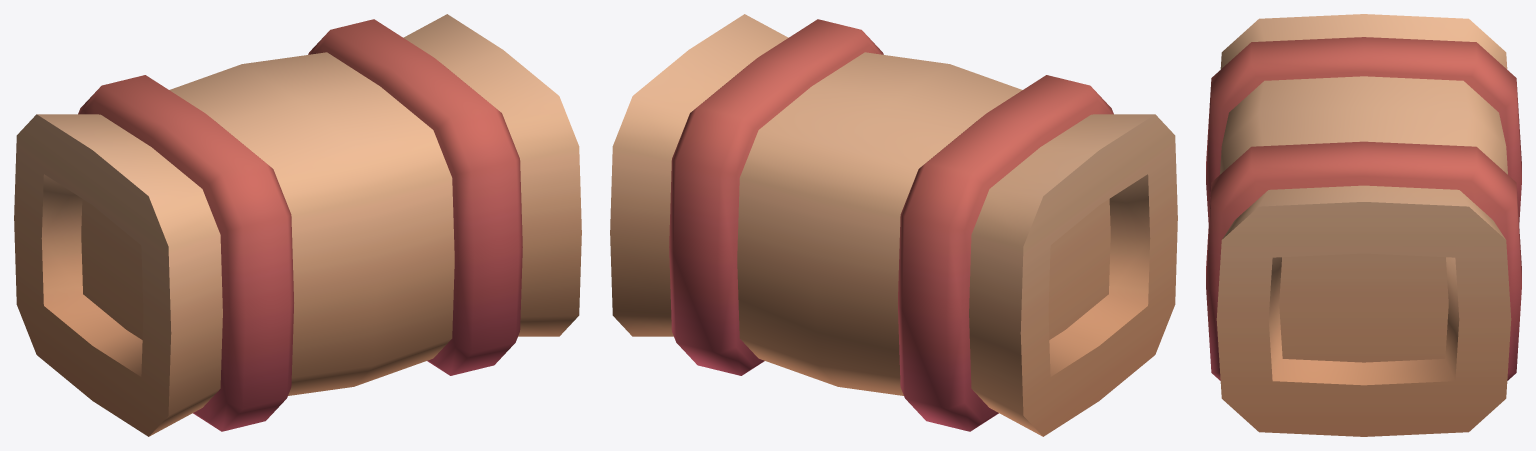
Rendered from k-graveyard-hay-bale-bundled.glb.
3 views of the same model, side by side, from view 1: azimuth 30°, elevation 25°; view 2: azimuth 150°, elevation 25°; view 3: azimuth 270°, elevation 25° (orthographic). The views are drawn at different scales.
Visible parts, largest first — view 1: hay-bale-bundled; view 2: hay-bale-bundled; view 3: hay-bale-bundled.
Boxes of the visible parts, bbox=[...] form: hay-bale-bundled: bbox=[14, 14, 581, 436]; hay-bale-bundled: bbox=[610, 14, 1177, 436]; hay-bale-bundled: bbox=[1206, 14, 1521, 436].
Size of the model in its own units: 0.6066 by 0.3798 by 0.4311.
Materials: 1 (1 with a texture image).
